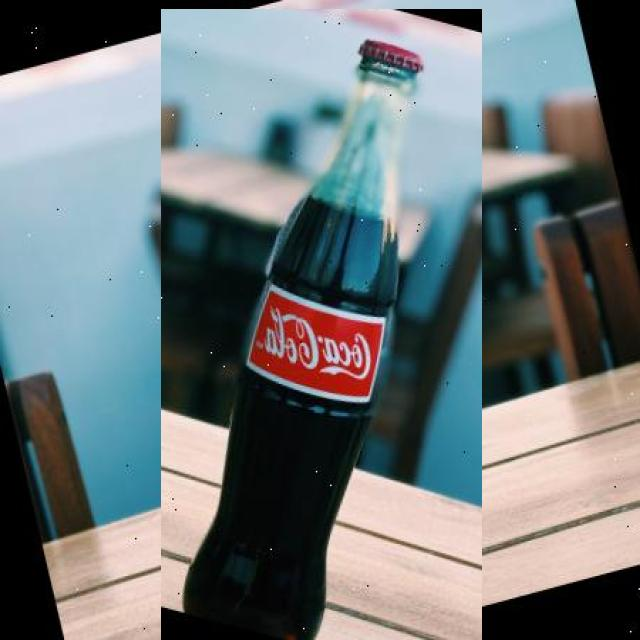coca-cola: (161, 9, 482, 640)
